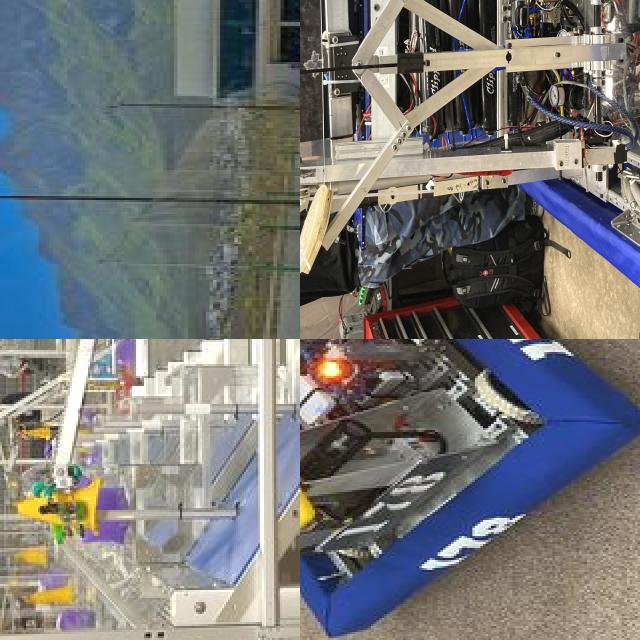FRC-Robots: (300, 0, 640, 332), (300, 339, 623, 640), (7, 339, 300, 546)
